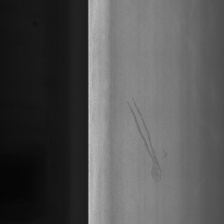water_spot: (125, 92, 173, 184)
